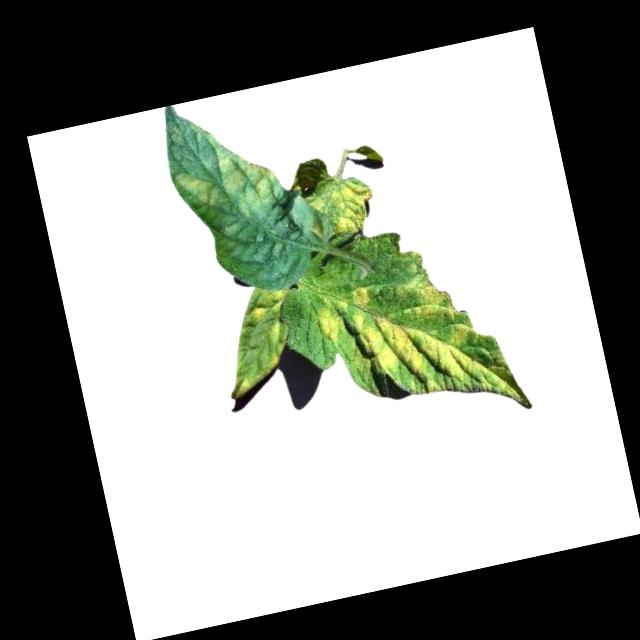Leaf_Mold: (313, 255, 528, 445), (167, 135, 282, 230), (302, 168, 378, 242), (248, 286, 294, 325)
